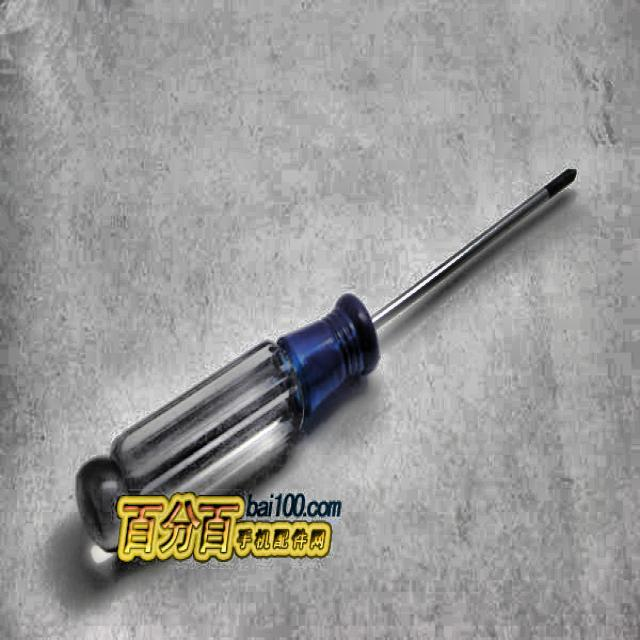screwdriver: (75, 168, 578, 554)
